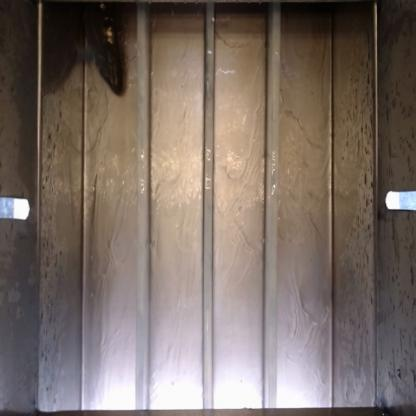pezw: (85, 1, 131, 100)
